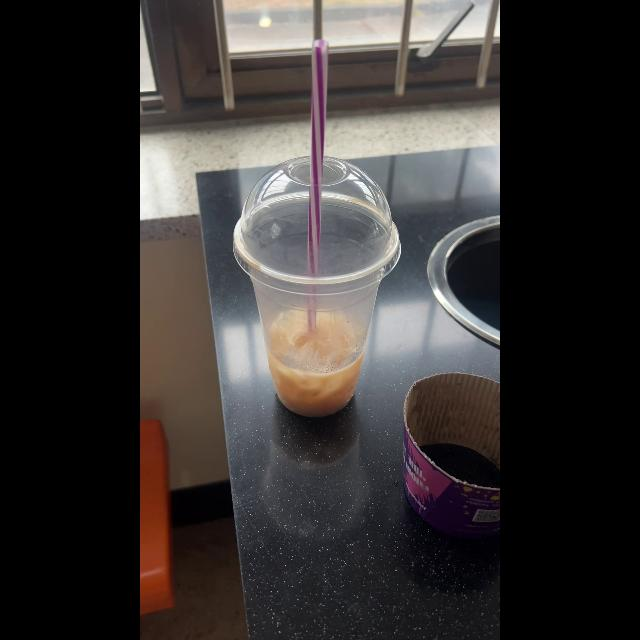dirty: (235, 158, 402, 410)
